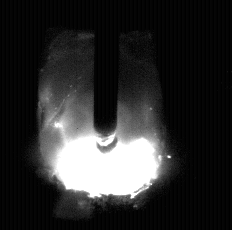arame: (94, 0, 119, 135)
poca: (38, 0, 166, 230)
